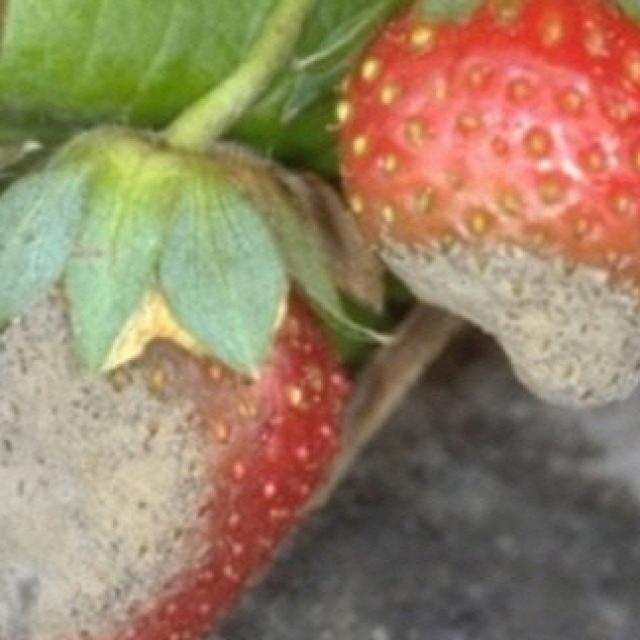Gray Mold: (0, 170, 274, 640), (362, 217, 640, 414)
